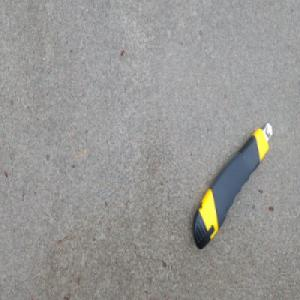Cutter: (191, 120, 273, 251)
